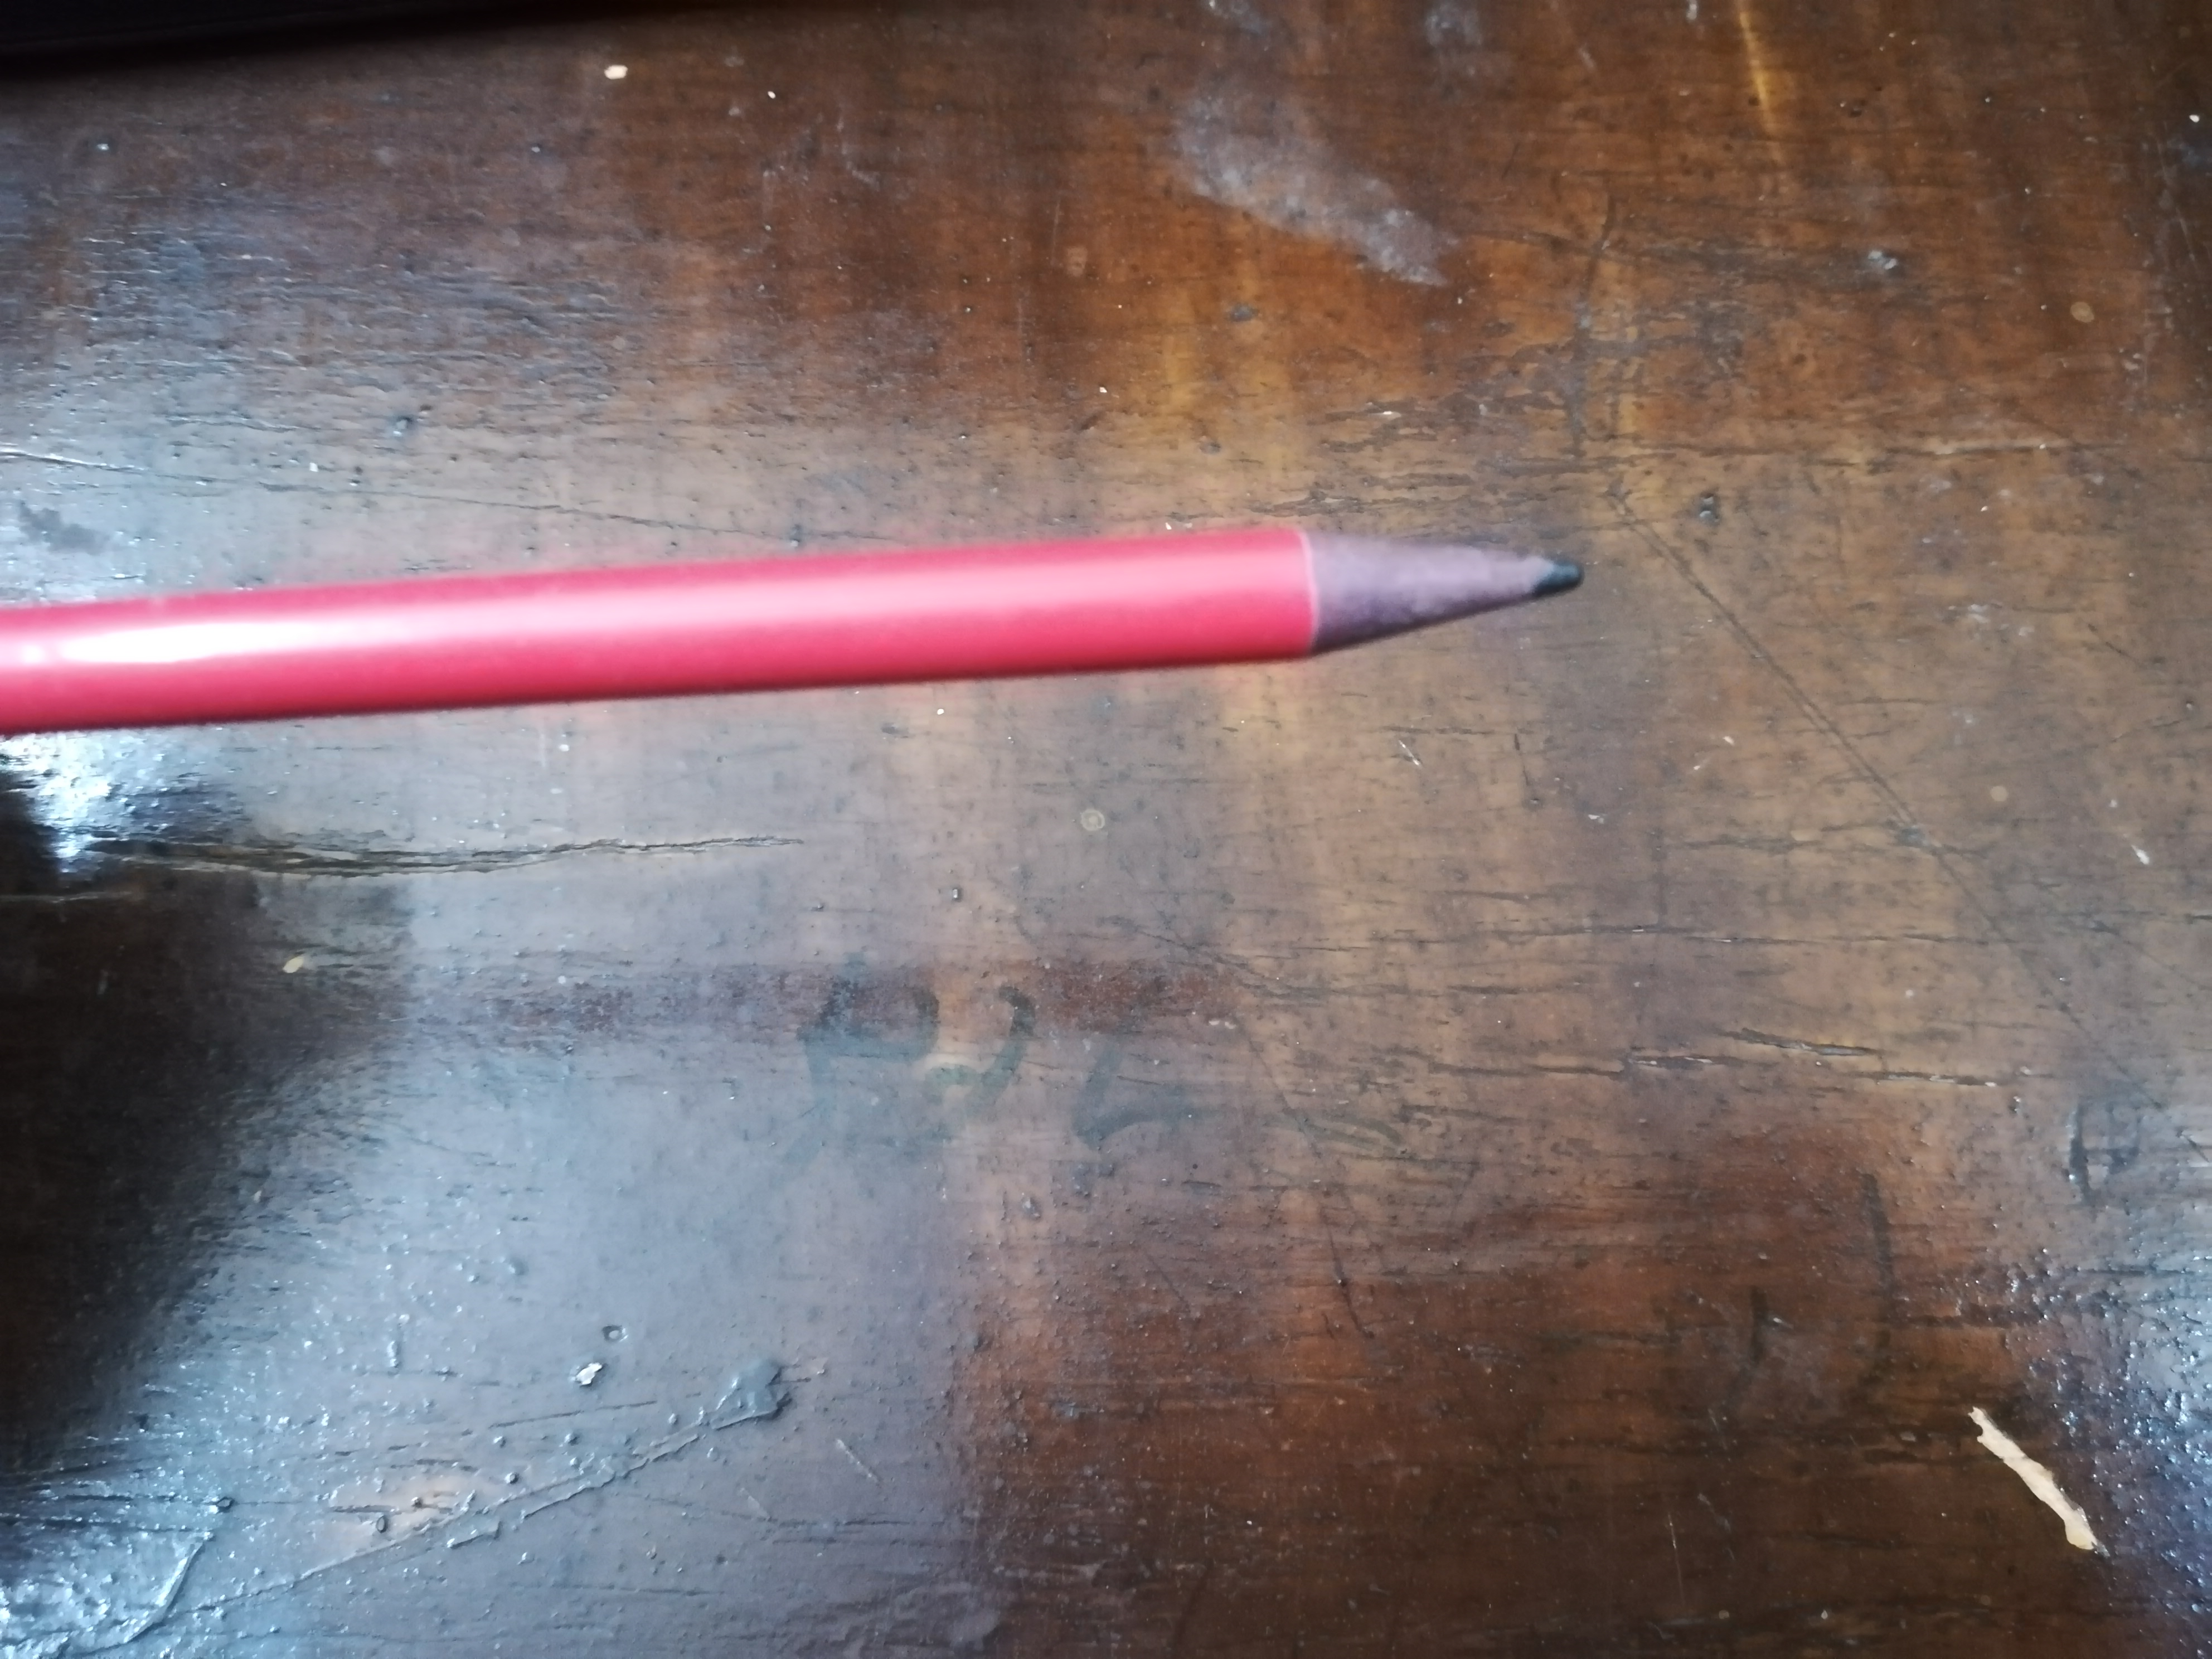pen_tip: (1155, 443, 1709, 730)
